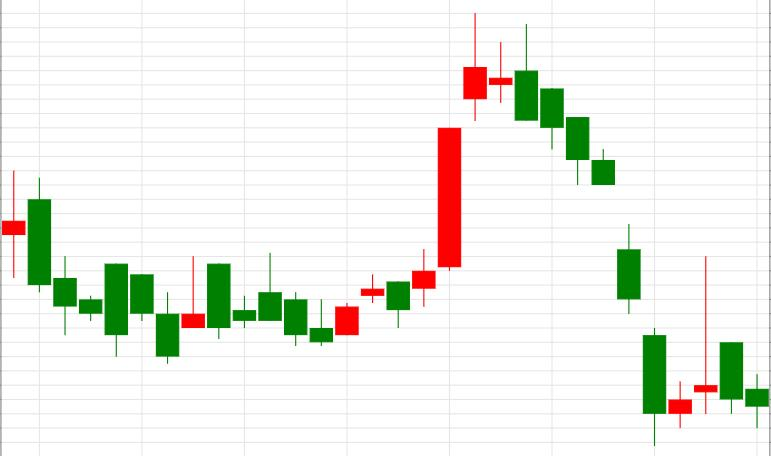shooting_star_fall: (336, 14, 488, 336)
